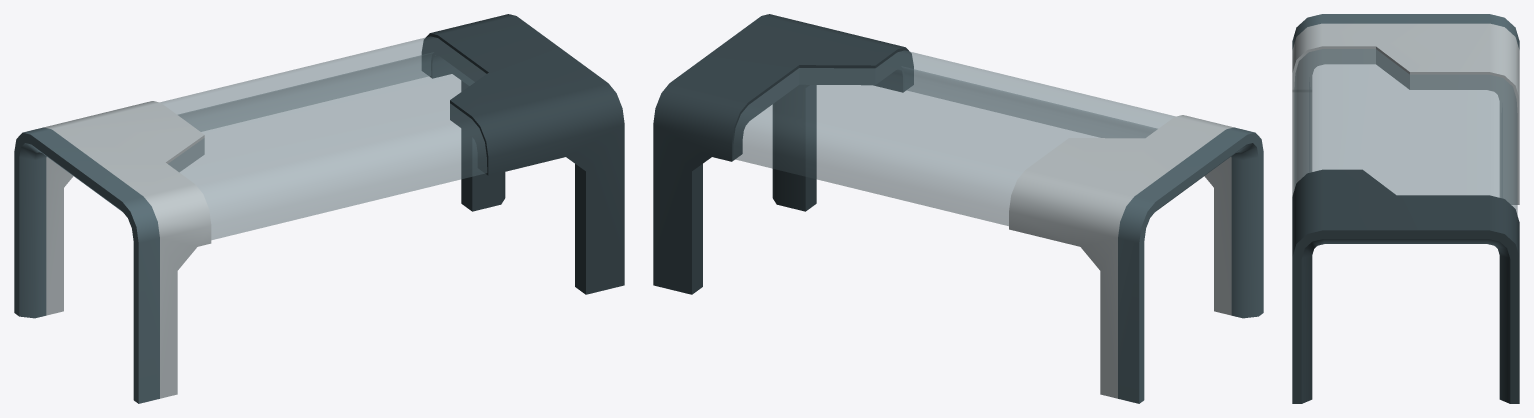
File: Desk_029.glb
The picture shows the model from 3 angles, left to right: view 1: azimuth 30°, elevation 25°; view 2: azimuth 150°, elevation 25°; view 3: azimuth 270°, elevation 25°; orthographic projection. The views are drawn at different scales.
Visible parts, largest first — view 1: Desk_029; view 2: Desk_029; view 3: Desk_029.
Part boxes in pixels (x1,y1,x2,y2): Desk_029: (14, 14, 624, 403); Desk_029: (653, 14, 1263, 403); Desk_029: (1292, 14, 1519, 403).
Bounding box in the file's own units: 2.35 × 0.8775 × 1.04.
Materials: 2 (2 with a texture image).
